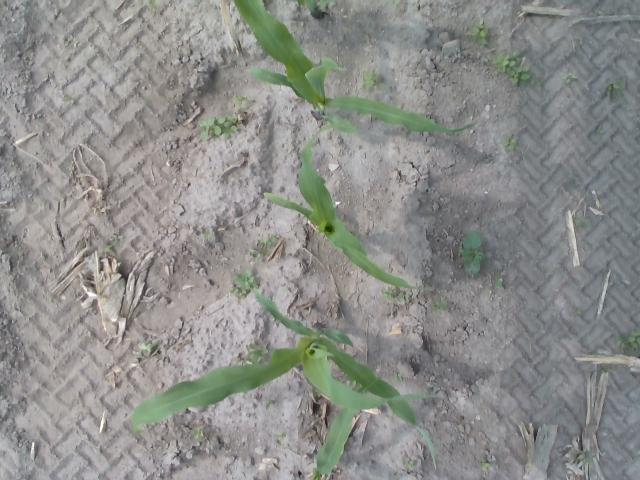Maize: (130, 288, 440, 468), (233, 0, 477, 133), (264, 122, 433, 292), (311, 376, 378, 480), (150, 0, 334, 20)
Weeds: (492, 50, 542, 88), (458, 230, 486, 277), (198, 114, 238, 140), (228, 269, 258, 299), (232, 342, 268, 365), (249, 235, 278, 262), (617, 329, 640, 358), (467, 18, 489, 46), (360, 70, 386, 91), (380, 286, 410, 302), (135, 340, 159, 360), (605, 79, 627, 100), (502, 136, 518, 152), (572, 450, 590, 464), (432, 299, 448, 314), (233, 94, 249, 108), (345, 378, 362, 390), (273, 432, 287, 446), (190, 426, 204, 439), (494, 272, 504, 290), (476, 458, 491, 470), (562, 73, 577, 84), (102, 243, 114, 255), (264, 398, 276, 410), (113, 233, 124, 246), (403, 458, 415, 469), (201, 230, 212, 239), (394, 372, 404, 381), (574, 219, 584, 227), (596, 124, 604, 134), (192, 0, 200, 4)
